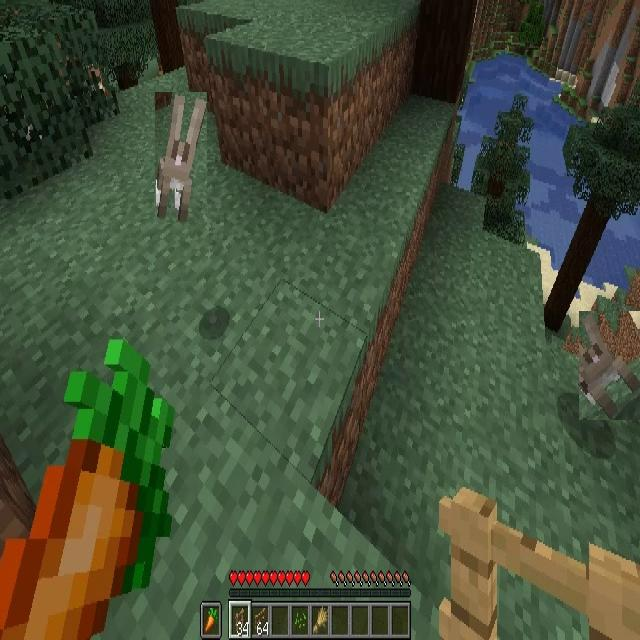rabbit: (155, 92, 207, 222), (579, 311, 640, 420)
